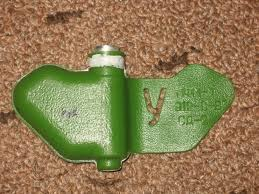butterfly: (7, 41, 242, 187)
